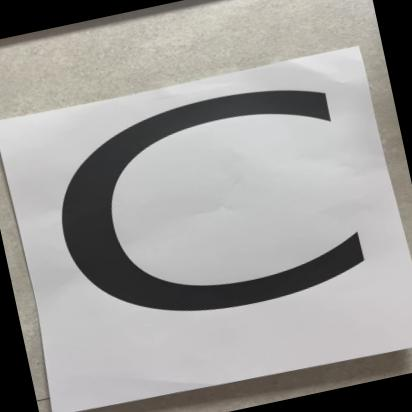seat: (0, 37, 412, 411)
